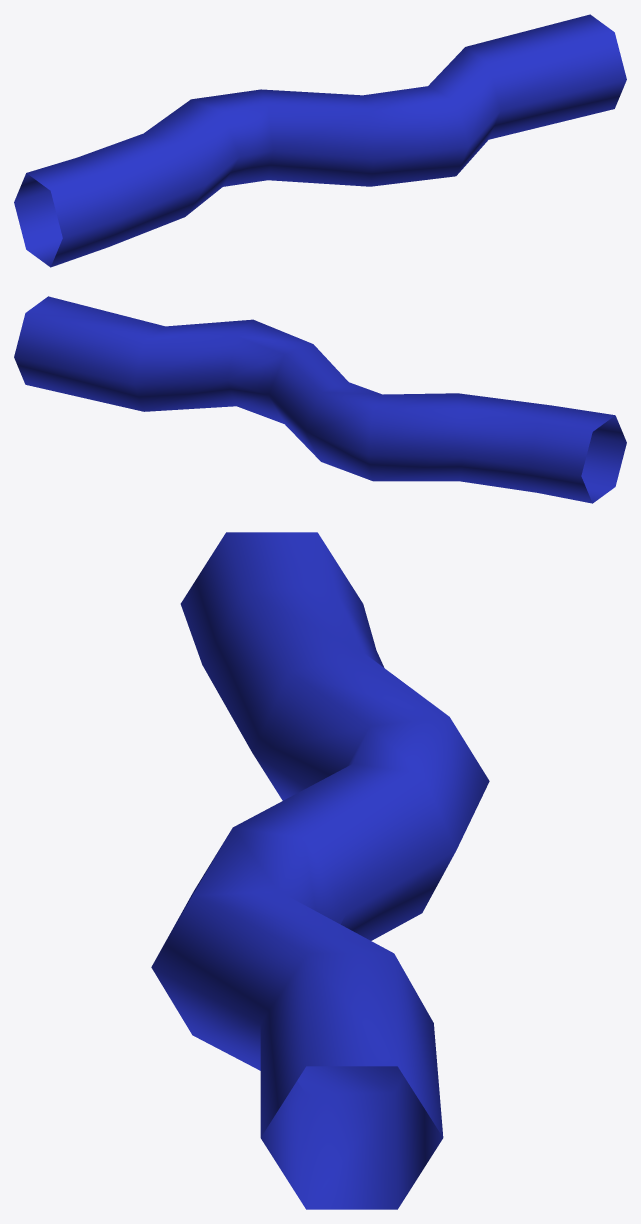
The model's file is Módulo de Cabos 4.fbx.
The picture shows the model from 3 angles, top to bottom: view 1: azimuth 30°, elevation 25°; view 2: azimuth 150°, elevation 25°; view 3: azimuth 270°, elevation 25°; orthographic projection. The views are drawn at different scales.
Visible parts, largest first — view 1: Cube.003; view 2: Cube.003; view 3: Cube.003.
Part boxes in pixels (left/top/right/bottom): Cube.003: left=14, top=14, right=626, bottom=267; Cube.003: left=14, top=296, right=626, bottom=503; Cube.003: left=151, top=532, right=489, bottom=1209.
Size of the model in its own units: 727 by 90.99 by 195.
